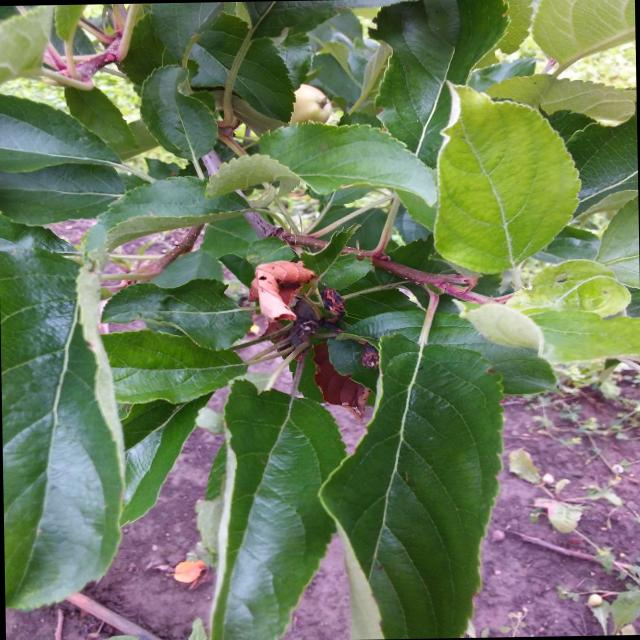-FireBlight-: (245, 256, 344, 327)
